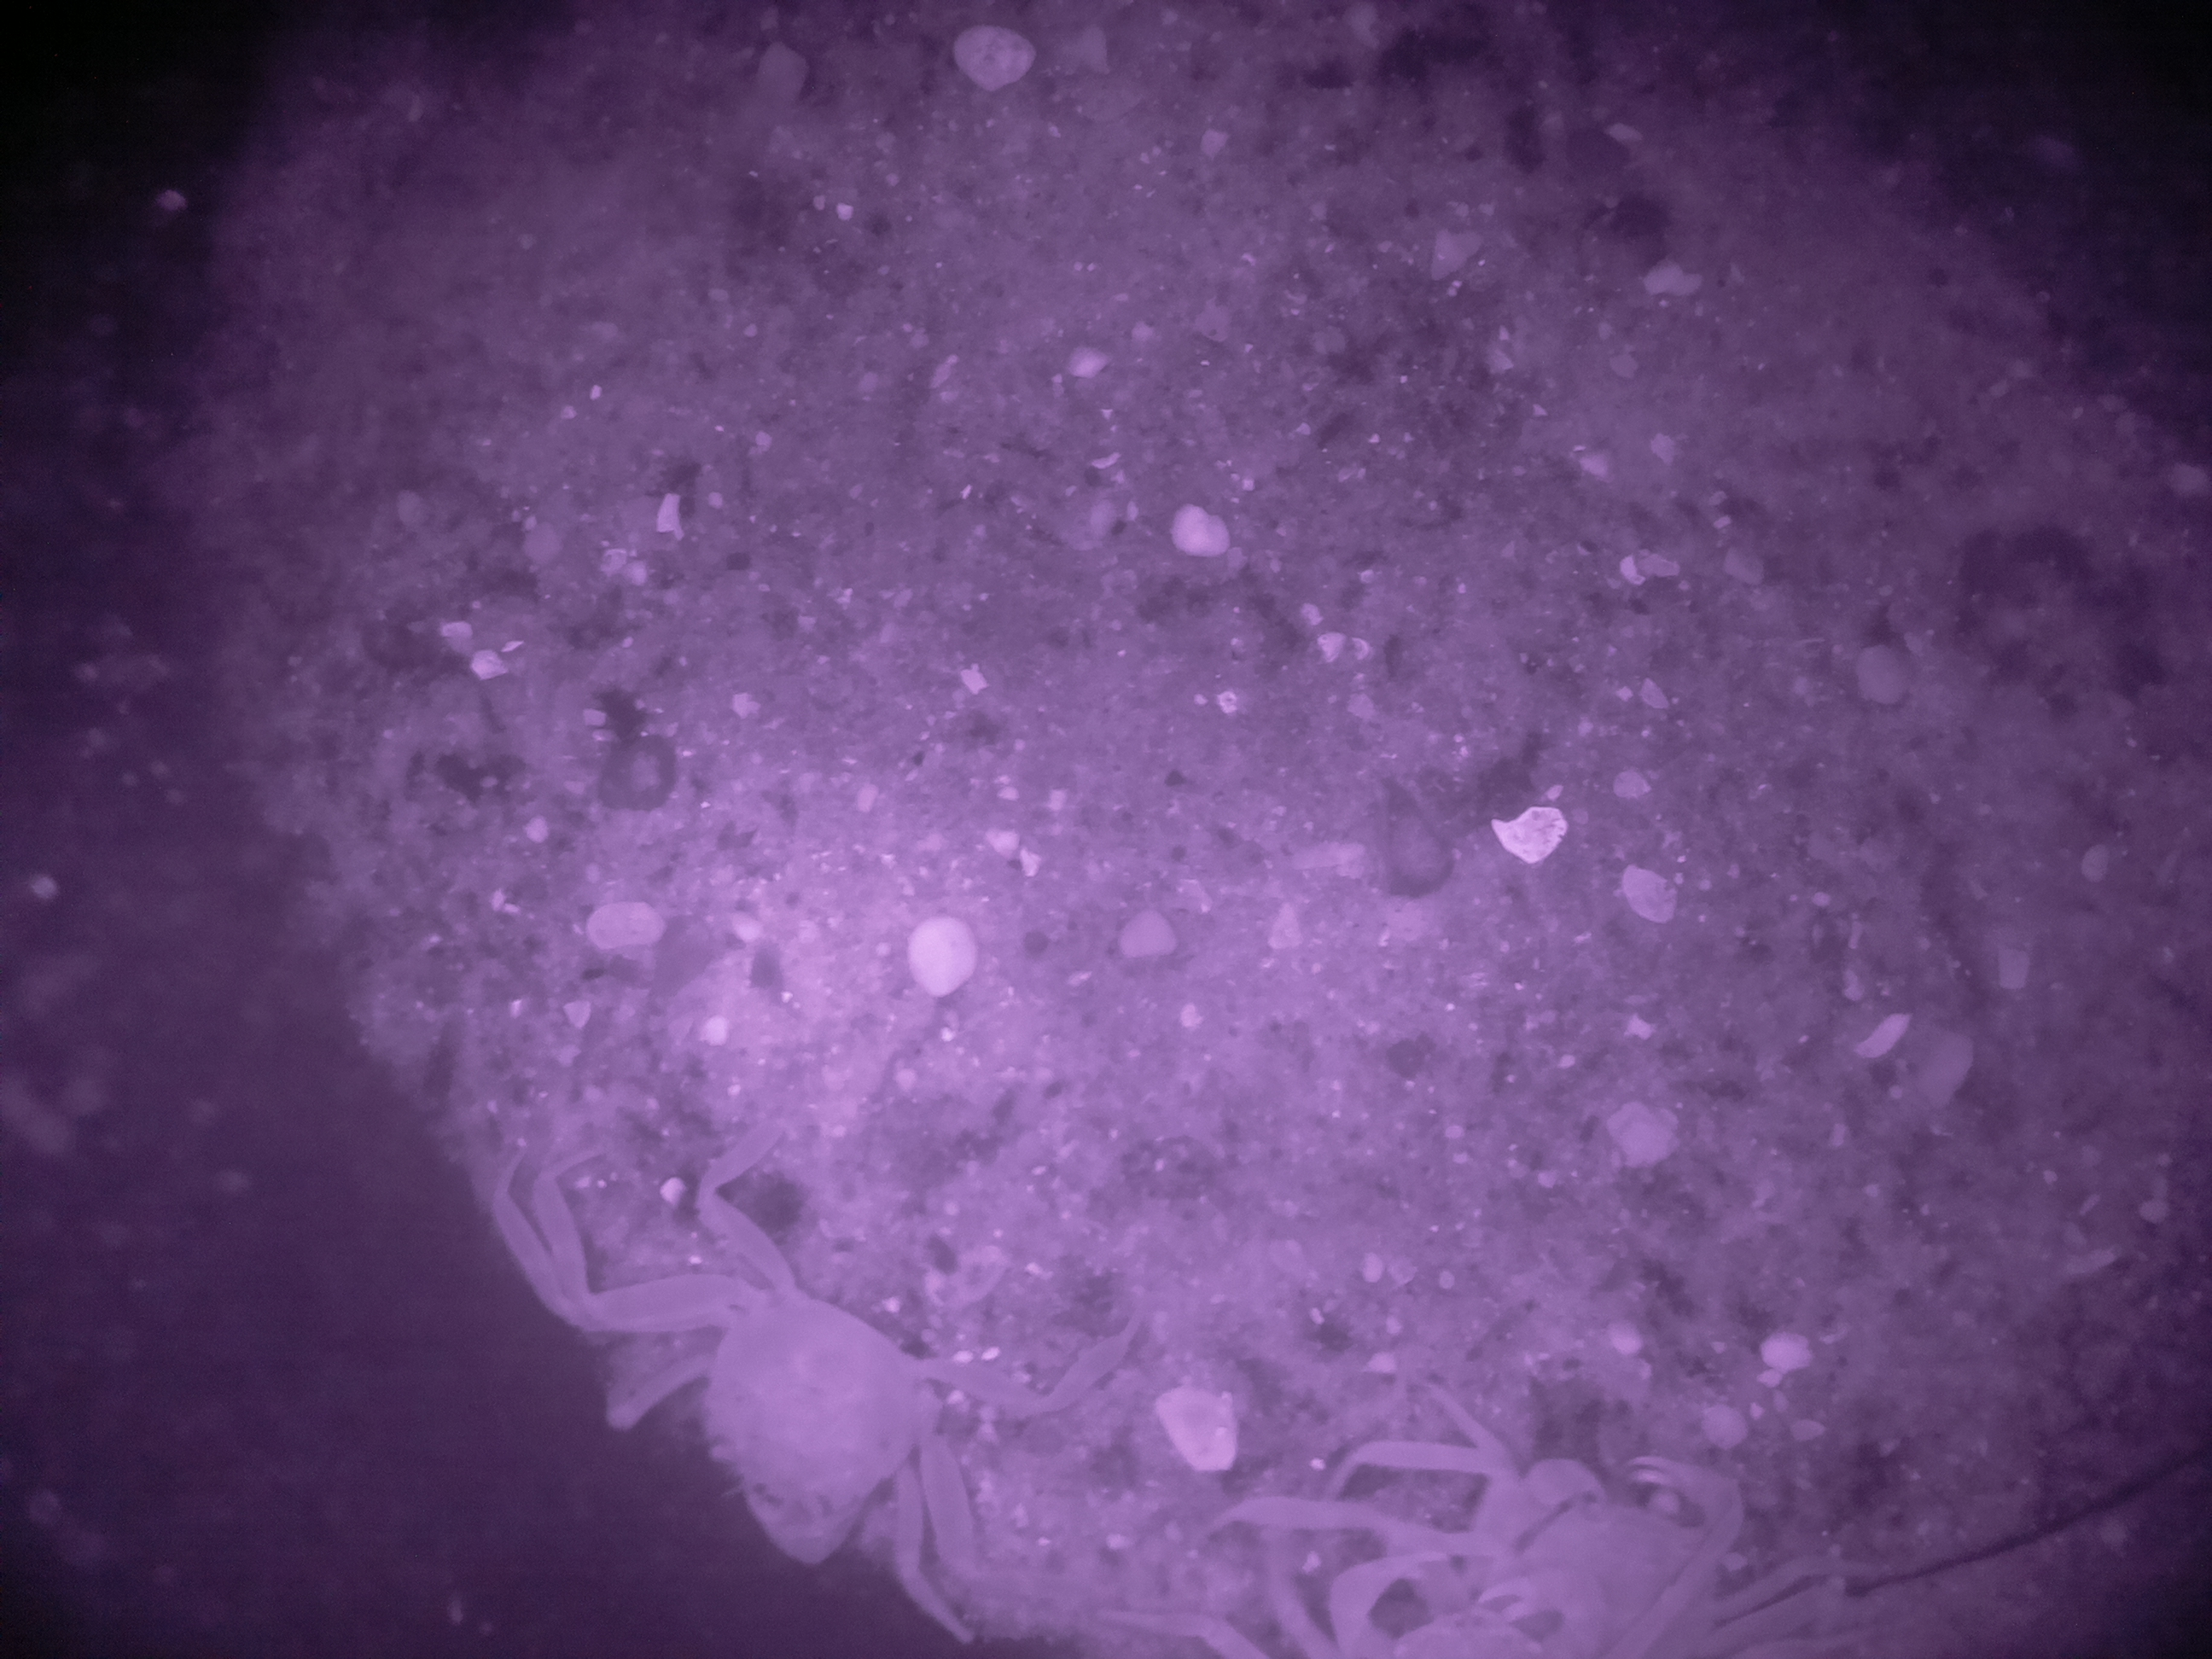Crab: (571, 1171, 1033, 1652)
